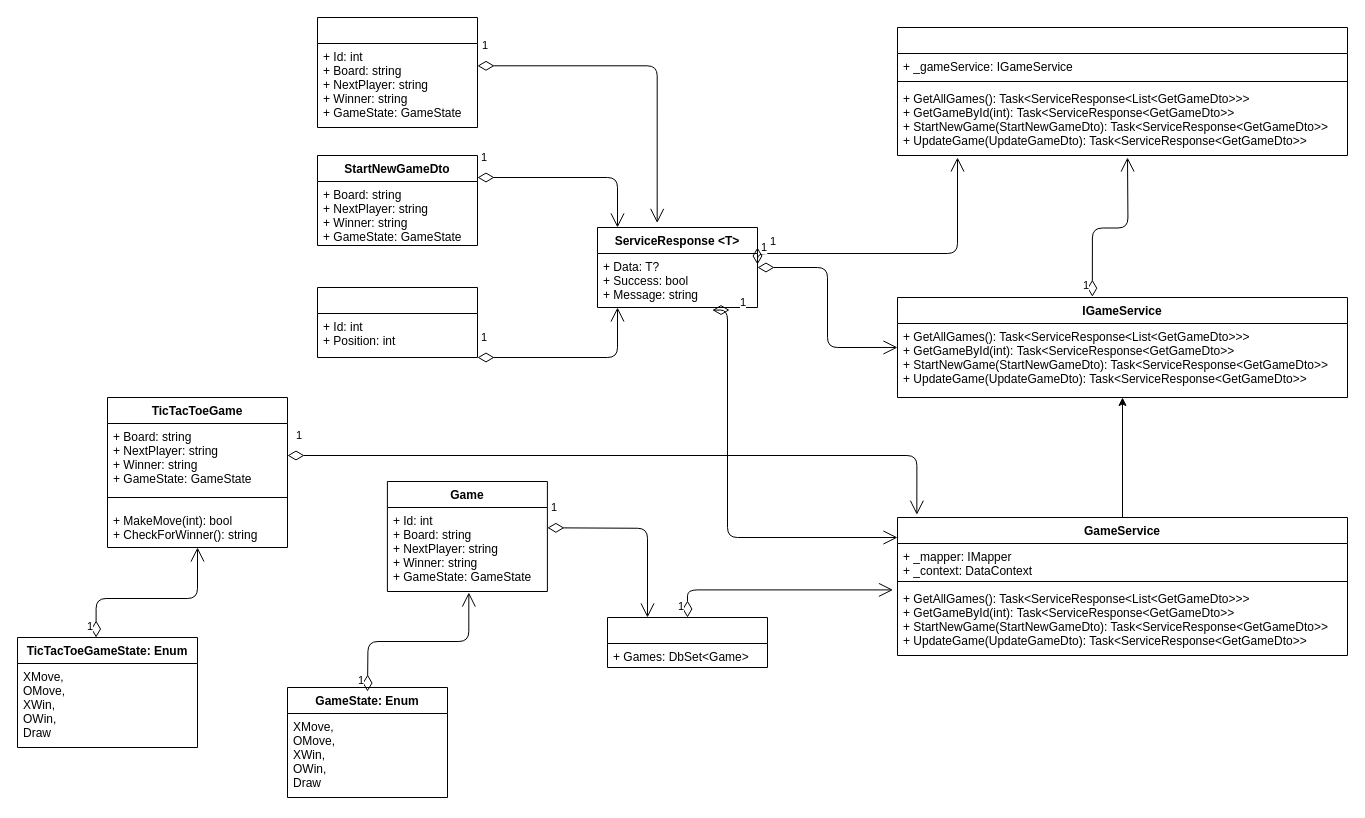
The diagram is 1365 pixels wide and 818 high, and some of its shapes have lost their labels. The shapes that lost their labels are listed below. From the top down, each one's box as (x1, y1, x2, y2) in pixels, then its label:
(316, 16, 478, 128): GetGameDto
(896, 26, 1348, 156): GameController
(316, 286, 478, 358): UpdateGameDto
(606, 616, 768, 668): DataContext
